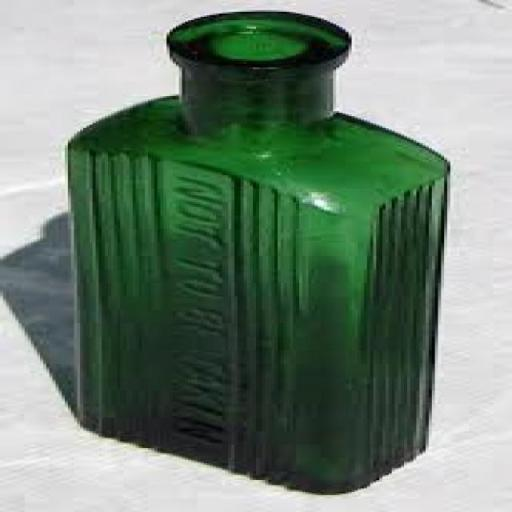glass: (30, 1, 473, 512), (509, 306, 512, 306)
